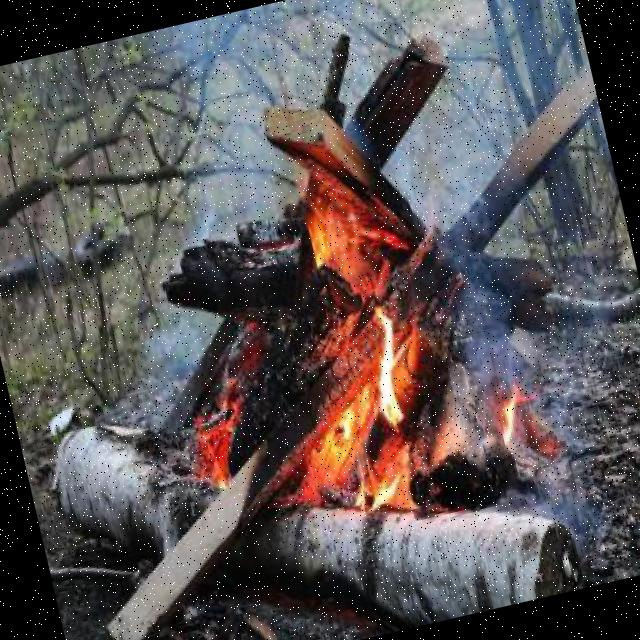fire: (132, 92, 480, 568)
